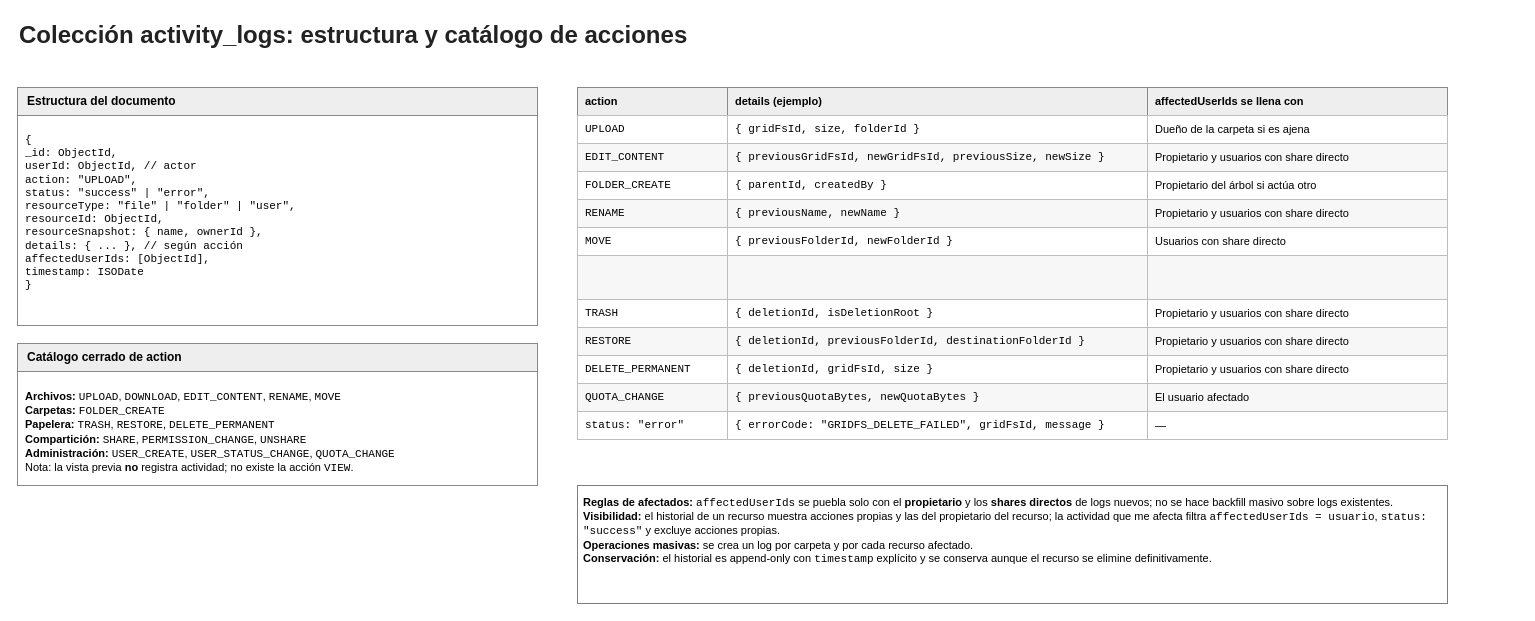
Some shapes in this 1535 by 621 pixel diagram are drawn without their labels. Here are the shapes that lost their labels. From the top down, the box of each, then its label:
(576, 254, 728, 300): SHARE / PERMISSION_CHANGE / UNSHARE
(726, 254, 1148, 300): { sharedWithId, permission, origin }
(1146, 254, 1448, 300): El destinatario
